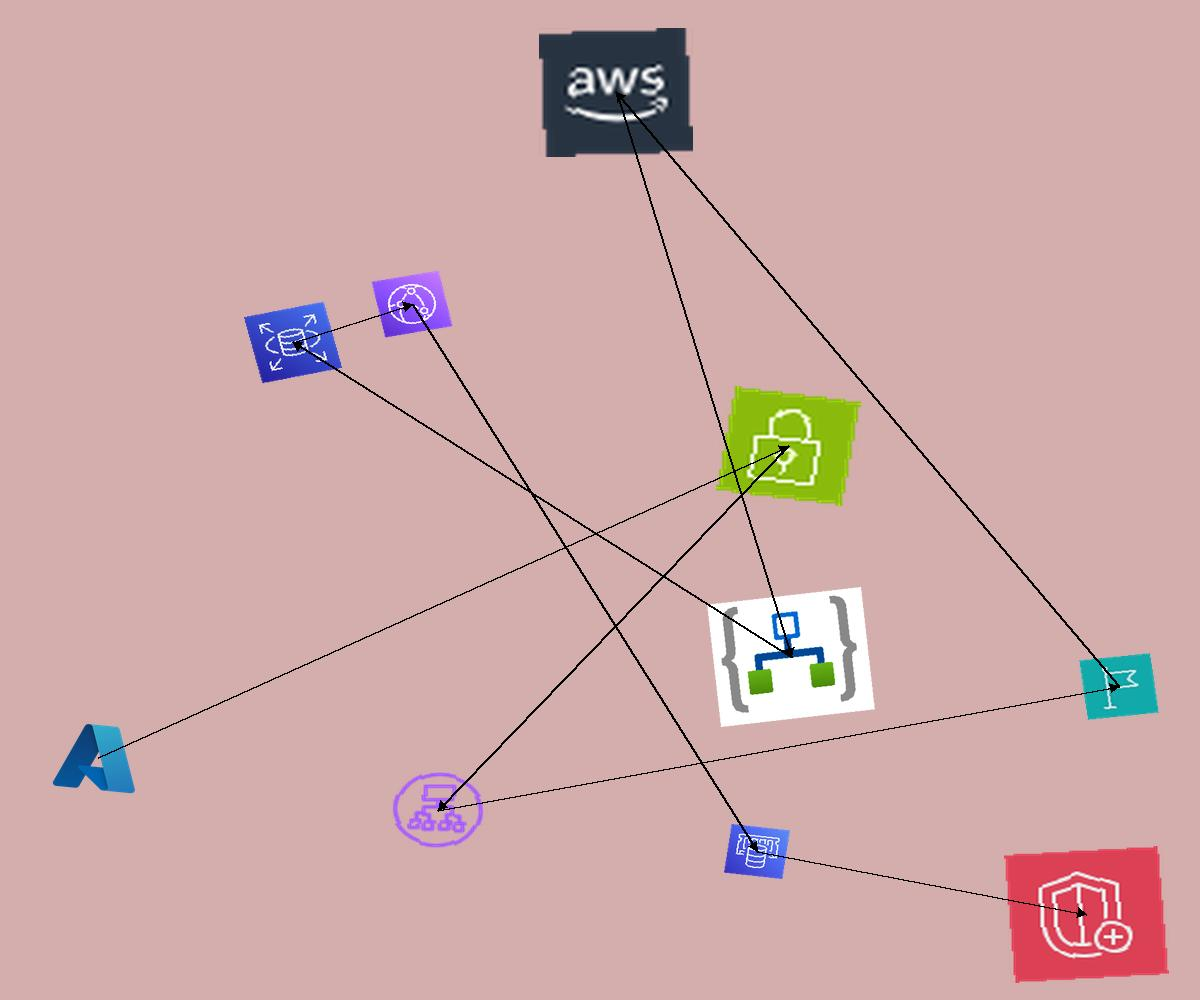AWS-Cloud-logo: (539, 28, 693, 157)
AWS-CloudFront: (371, 270, 453, 338)
AWS-ElastiCache: (724, 824, 790, 879)
AWS-Public-subnet: (716, 386, 861, 506)
AWS-RDS: (243, 301, 343, 384)
AWS-Region: (1079, 653, 1159, 720)
AWS-Res_Elastic-Load-Balancing_Application-Load-Balancer: (385, 766, 491, 854)
AWS-Shield: (1004, 846, 1169, 983)
Azure_integration-204-Logic-Apps: (707, 587, 875, 727)
Azure_services: (48, 716, 148, 799)
